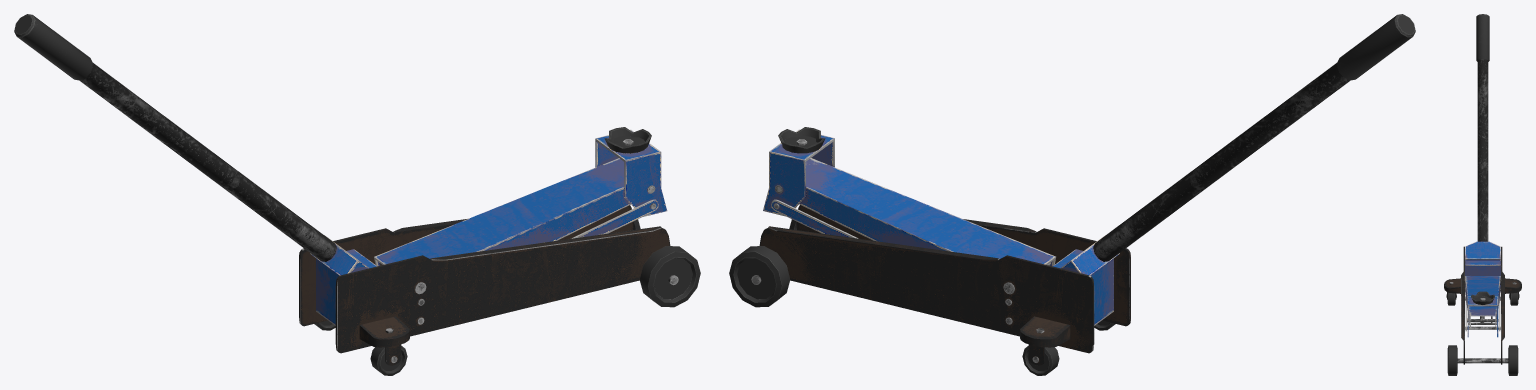
File: CarJack.fbx
The picture shows the model from 3 angles, left to right: view 1: azimuth 30°, elevation 25°; view 2: azimuth 150°, elevation 25°; view 3: azimuth 270°, elevation 25°; orthographic projection. The views are drawn at different scales.
Visible parts, largest first — view 1: CarJack; view 2: CarJack; view 3: CarJack.
Boxes of the visible parts, left/top/right/bottom form: CarJack: left=14, top=14, right=700, bottom=375; CarJack: left=729, top=14, right=1415, bottom=375; CarJack: left=1444, top=14, right=1521, bottom=375.
Size of the model in its own units: 82.2 by 50.23 by 16.85.
Materials: 1 (1 with a texture image).
